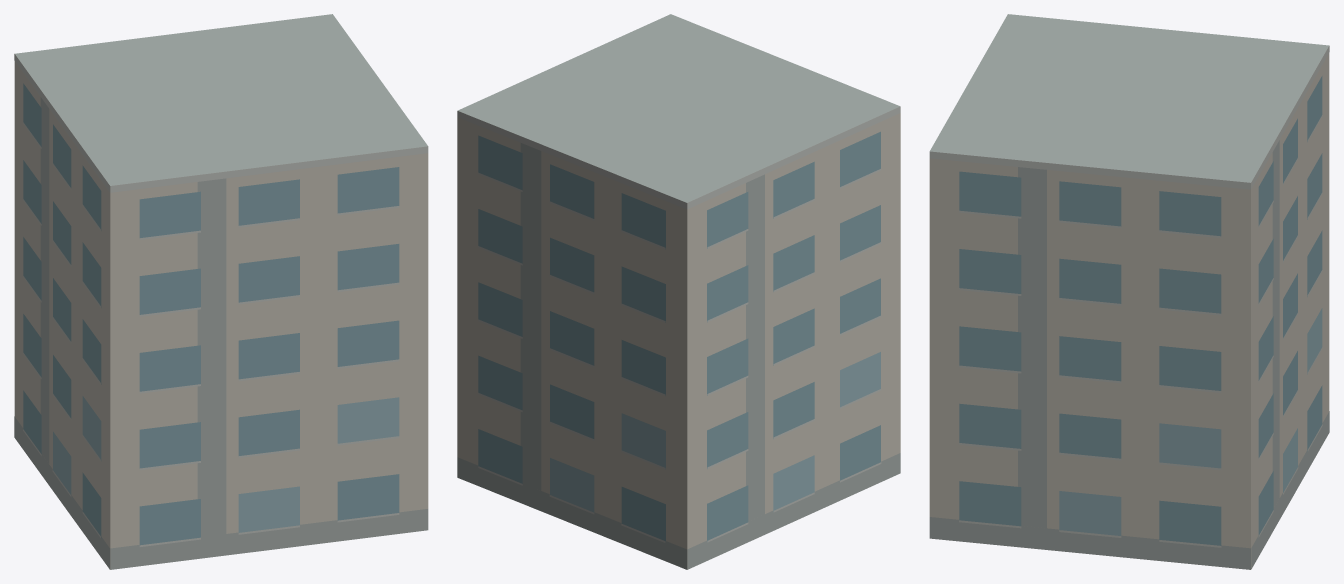
File: survey-upis-32533735.glb
The picture shows the model from 3 angles, left to right: view 1: azimuth 30°, elevation 25°; view 2: azimuth 150°, elevation 25°; view 3: azimuth 270°, elevation 25°; orthographic projection. The views are drawn at different scales.
Visible parts, largest first — view 1: survey-upis-32533735.tmp; view 2: survey-upis-32533735.tmp; view 3: survey-upis-32533735.tmp.
Part boxes in pixels (<box>): survey-upis-32533735.tmp: <box>14,14,428,569</box>; survey-upis-32533735.tmp: <box>457,14,900,569</box>; survey-upis-32533735.tmp: <box>929,14,1329,569</box>.
Bounding box in the file's own units: 12.78 × 13.65 × 12.79.
